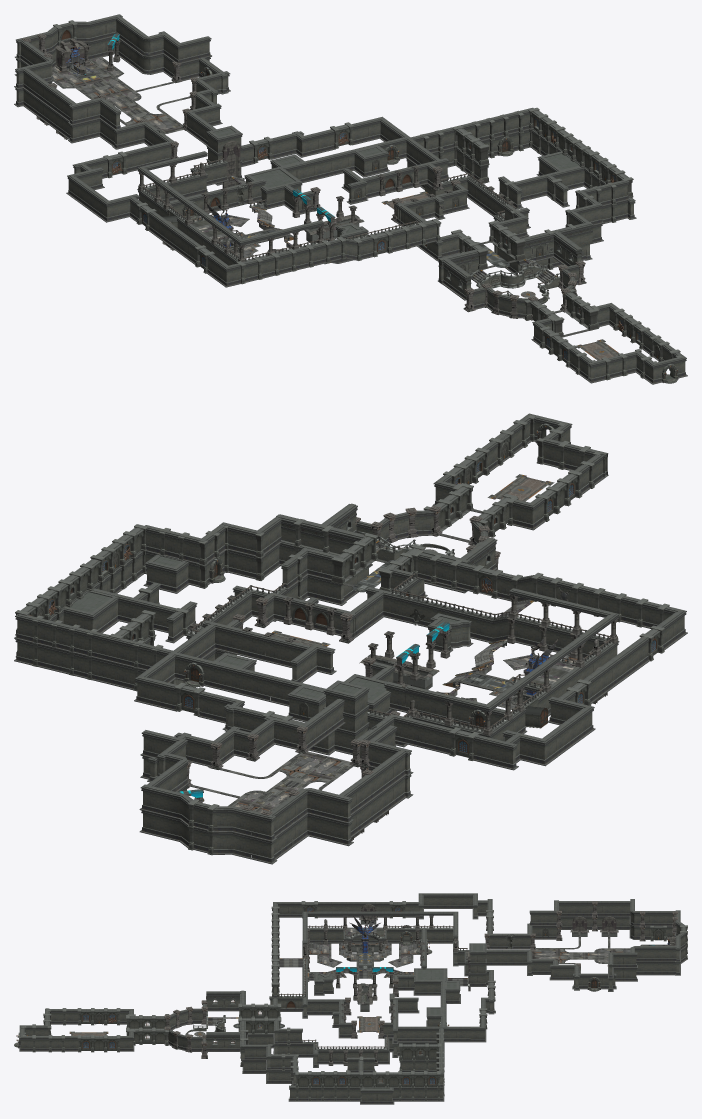
Rendered from sc_moshenta_002.FBX.
The picture shows the model from 3 angles, top to bottom: view 1: azimuth 30°, elevation 25°; view 2: azimuth 150°, elevation 25°; view 3: azimuth 270°, elevation 25°; orthographic projection. The views are drawn at different scales.
Parts seen in each view (by area): view 1: sc_guanka_001_001, 对象042, sc_guanka_001_002, sc_guanka_001_003, 对象002; view 2: sc_guanka_001_001, 对象042, sc_guanka_001_002, sc_guanka_001_003, 对象002; view 3: sc_guanka_001_001, 对象042, sc_guanka_001_002, sc_guanka_001_003, 对象002.
Boxes of the visible parts, x1,y1,x2,y2 form: sc_guanka_001_001: (14, 14, 687, 384); 对象042: (406, 107, 636, 275); sc_guanka_001_002: (39, 57, 619, 360); sc_guanka_001_003: (22, 33, 586, 320); 对象002: (236, 218, 681, 380); sc_guanka_001_001: (134, 413, 687, 864); 对象042: (14, 514, 368, 691); sc_guanka_001_002: (190, 474, 612, 837); sc_guanka_001_003: (177, 505, 618, 840); 对象002: (411, 415, 669, 627); sc_guanka_001_001: (14, 893, 687, 1067); 对象042: (240, 1027, 444, 1104); sc_guanka_001_002: (69, 920, 667, 1049); sc_guanka_001_003: (164, 901, 677, 1065); 对象002: (22, 906, 279, 1052).
Size of the model in its own units: 167 by 285 by 27.68.
